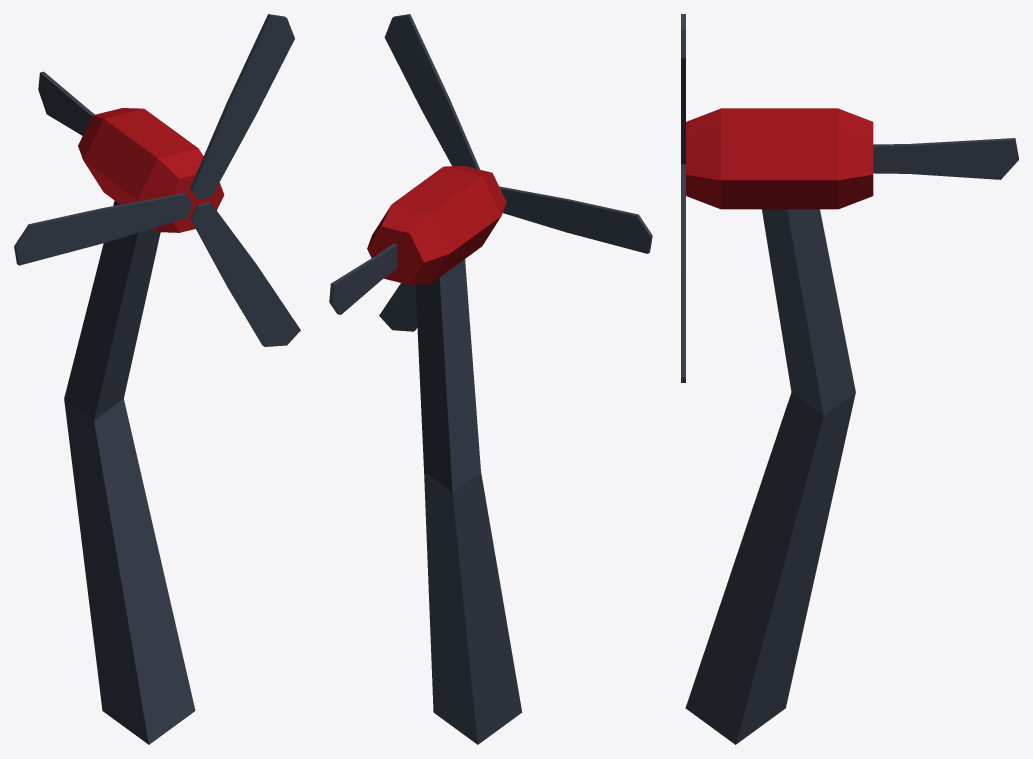
Rendered from Turbina.obj.
3 views of the same model, side by side, from view 1: azimuth 30°, elevation 25°; view 2: azimuth 150°, elevation 25°; view 3: azimuth 270°, elevation 25° (orthographic). The views are drawn at different scales.
Parts seen in each view (by area): view 1: Turbina; view 2: Turbina; view 3: Turbina.
Boxes of the visible parts, left/top/right/bottom form: Turbina: left=14, top=14, right=300, bottom=744; Turbina: left=329, top=14, right=652, bottom=744; Turbina: left=681, top=14, right=1018, bottom=744.
Size of the model in its own units: 121 by 285 by 115.
